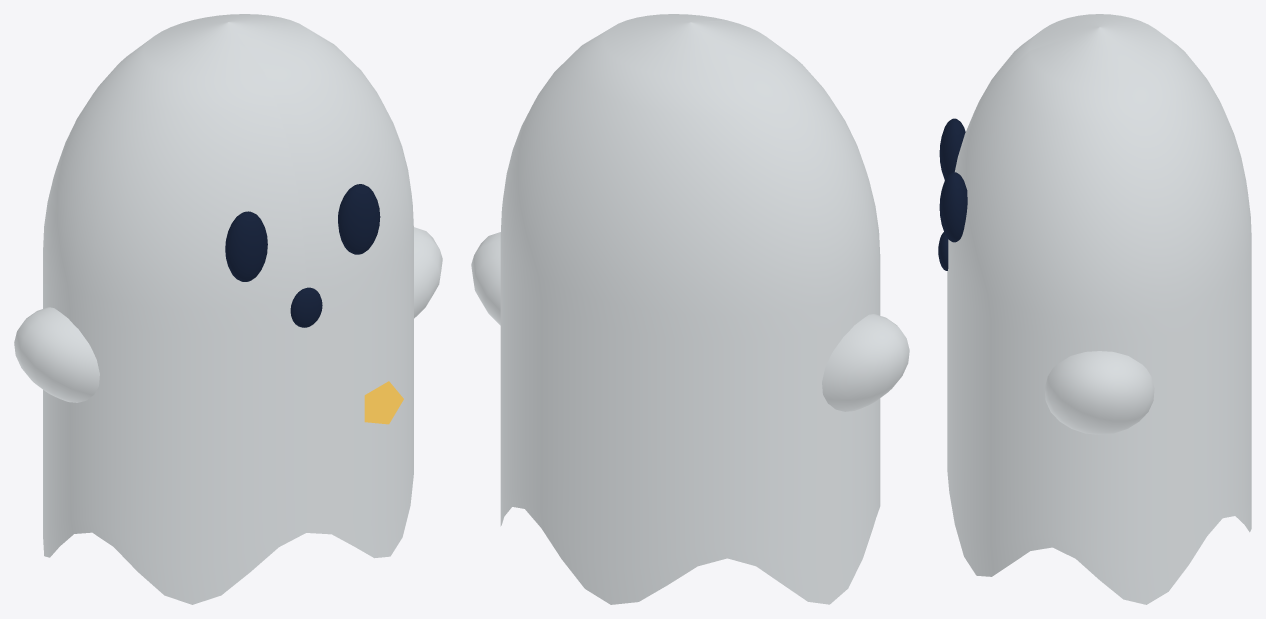
Rendered from ghost.glb.
The picture shows the model from 3 angles, left to right: view 1: azimuth 30°, elevation 25°; view 2: azimuth 150°, elevation 25°; view 3: azimuth 270°, elevation 25°; orthographic projection. The views are drawn at different scales.
Visible parts, largest first — view 1: Obake_Test_Ghost; view 2: Obake_Test_Ghost; view 3: Obake_Test_Ghost.
Part boxes in pixels (x1,y1,x2,y2): Obake_Test_Ghost: (14,14,442,604); Obake_Test_Ghost: (471,14,909,604); Obake_Test_Ghost: (938,14,1251,604).
Bounding box in the file's own units: 0.6657 × 0.785 × 0.445.
